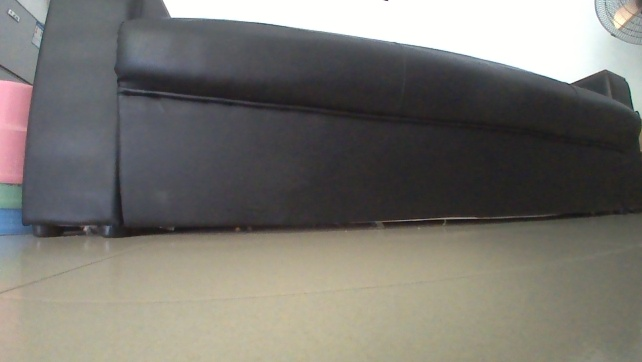sofa1: (17, 0, 641, 239)
